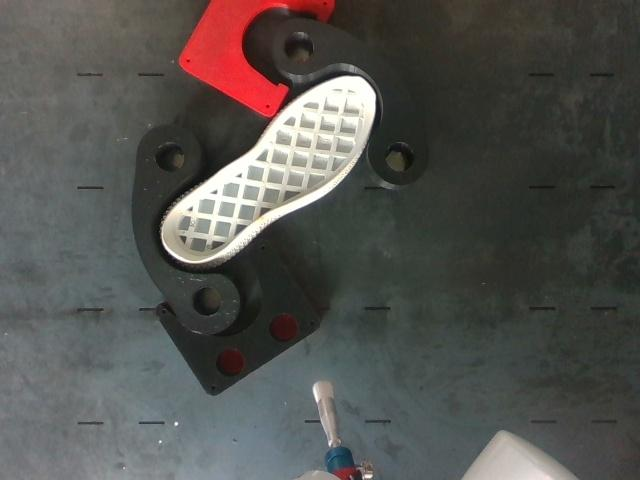shoes: (161, 77, 374, 265)
